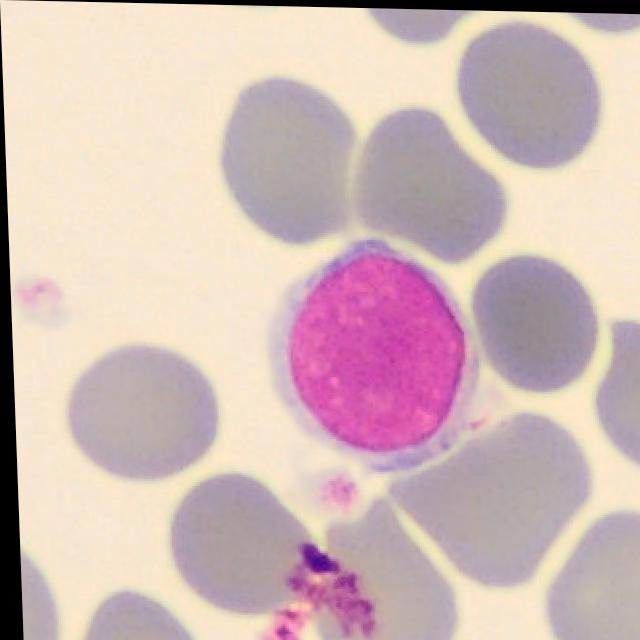Linfocito: (264, 238, 477, 457)
